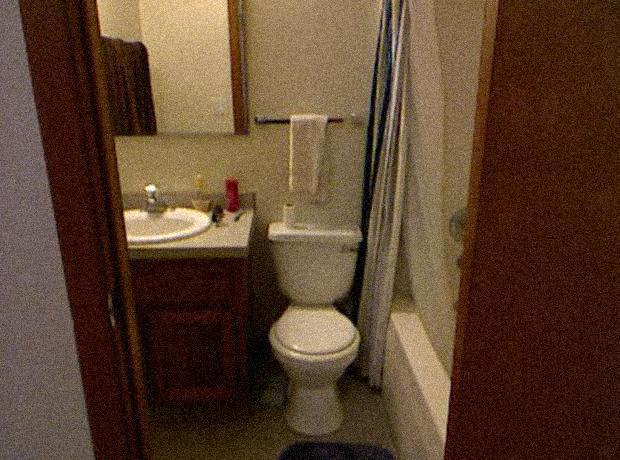Lavamanos: (122, 181, 211, 245)
Sanitario: (265, 218, 370, 433)
